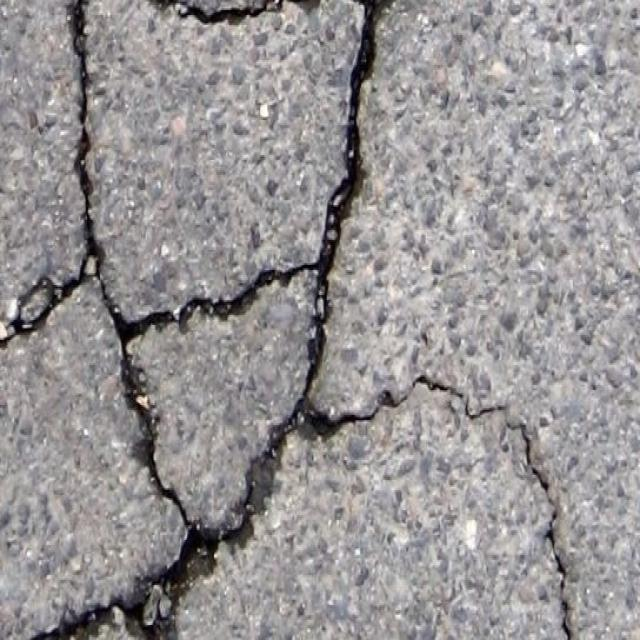Turtle-shell patterned: (0, 0, 640, 637)
